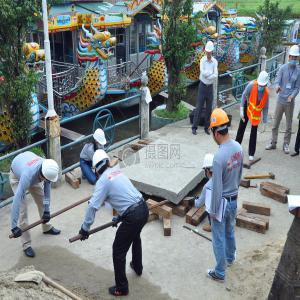white: (92, 149, 112, 177), (42, 159, 60, 185), (203, 154, 215, 181), (94, 130, 108, 152), (289, 45, 300, 68), (258, 72, 270, 93), (205, 41, 215, 60)
yellow: (210, 108, 231, 143)
